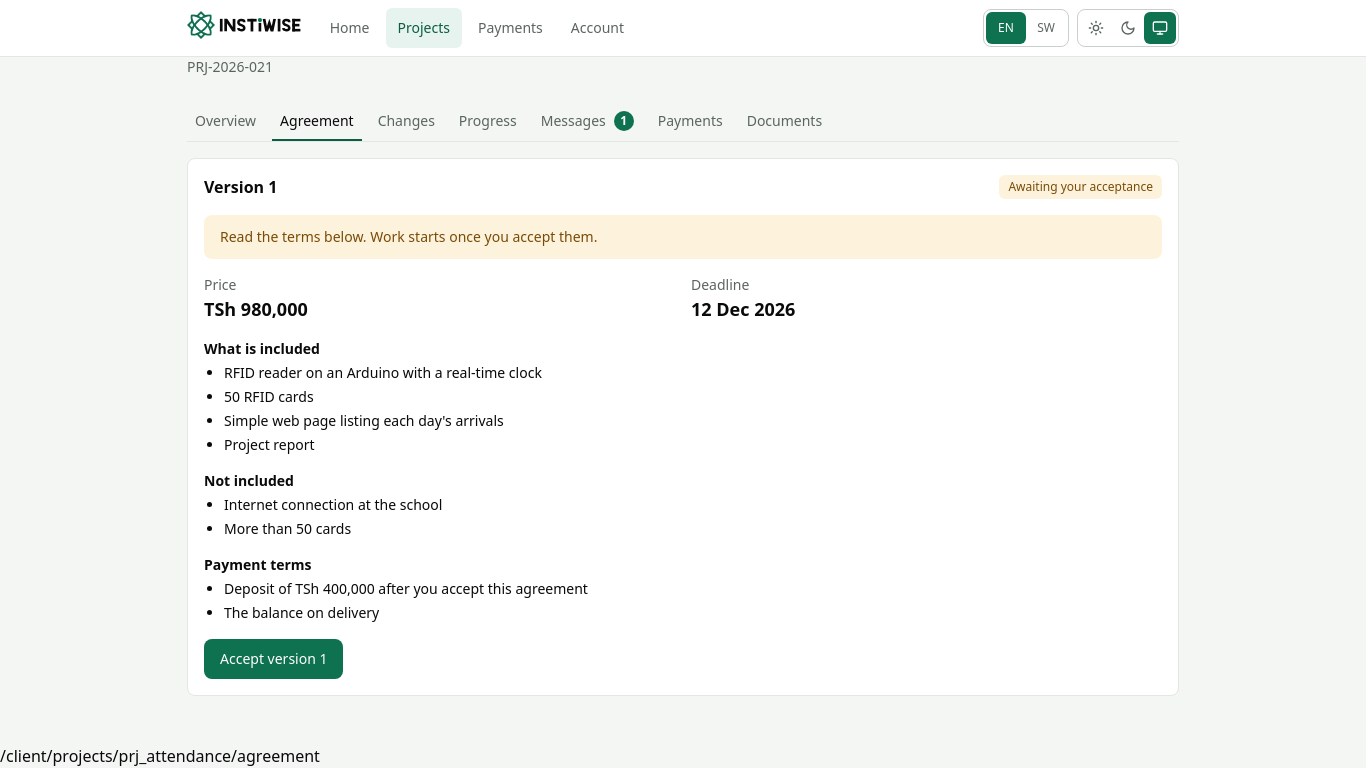
Test case: project detail › explains an agreement that can no longer be accepted
(page scrolled)
Click the button "Accept version 1": click(274, 659) [204,639,344,679]
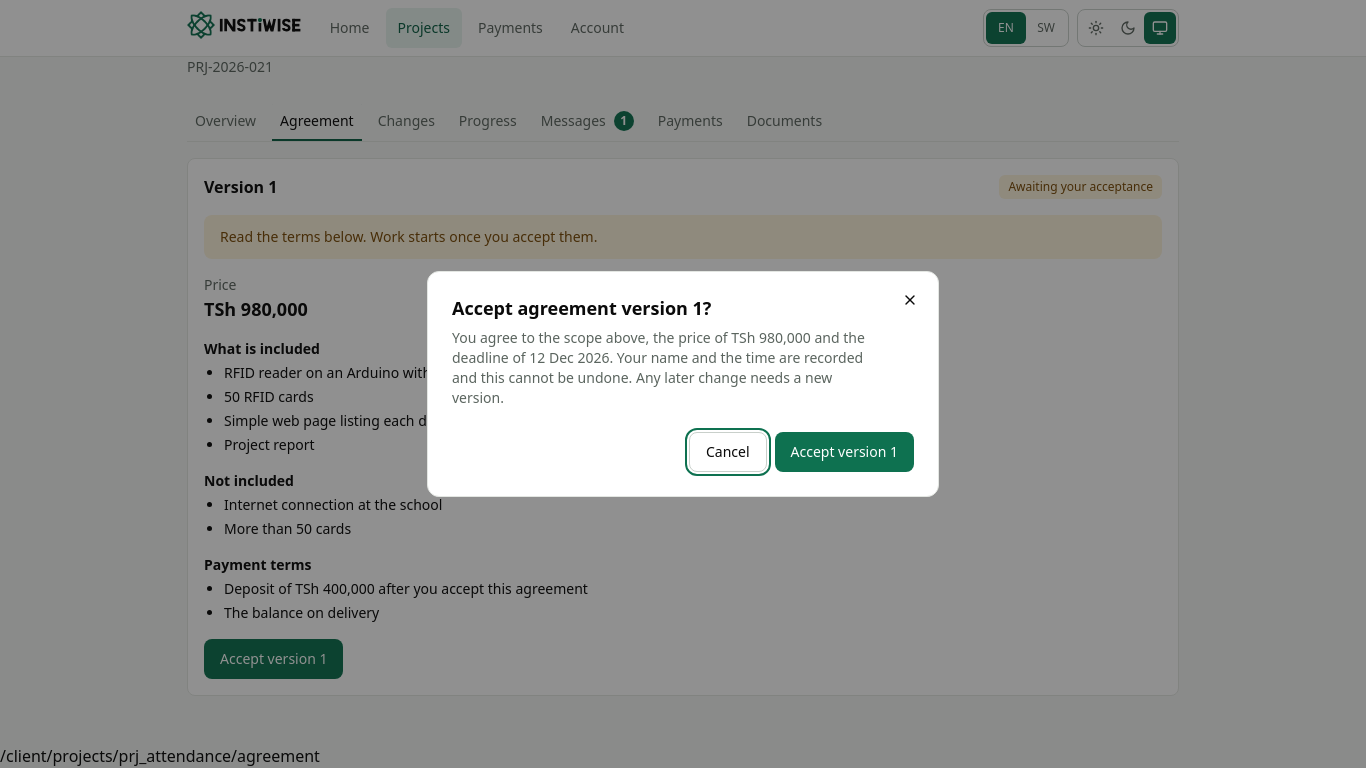
Click the button "Accept version 1": click(844, 452) [774,432,914,472]
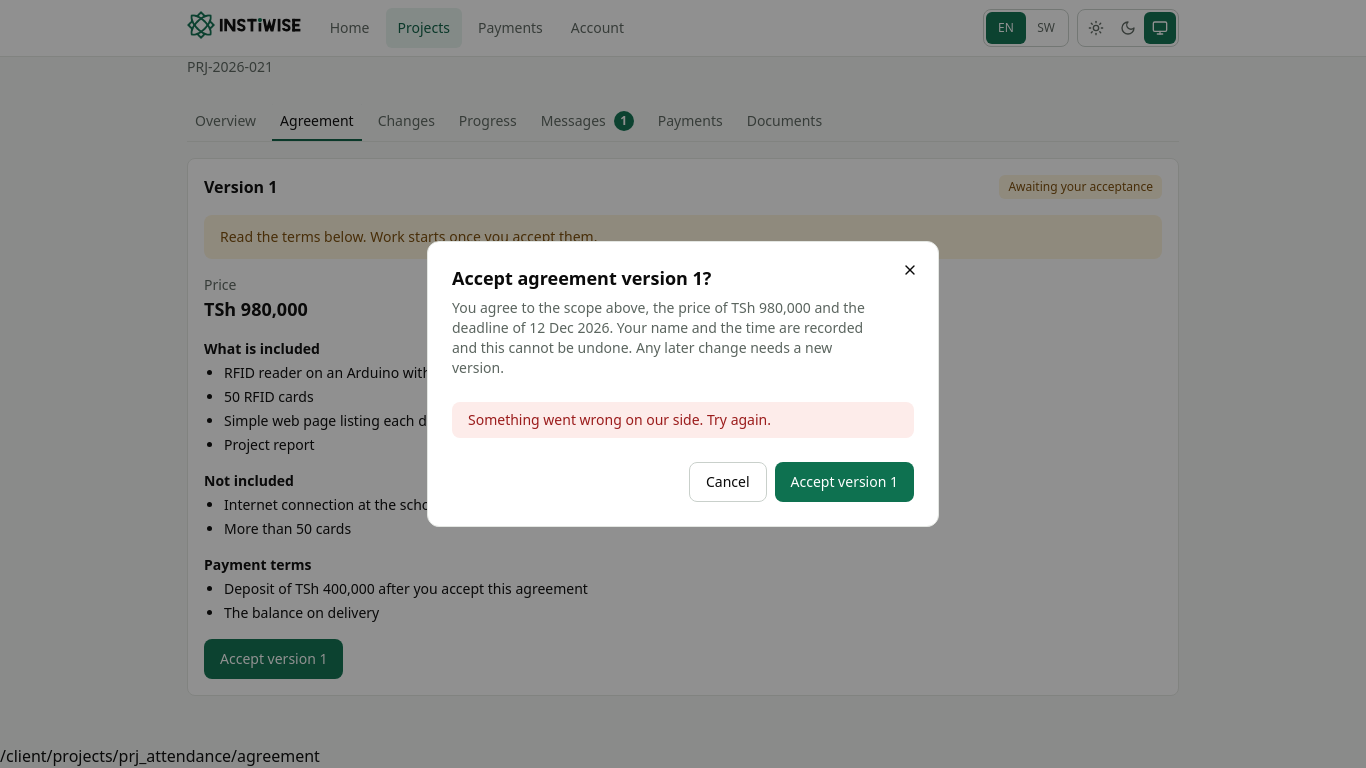
Result: the message "Something went wrong on our side. Try again." is shown at [452,402,914,438]
